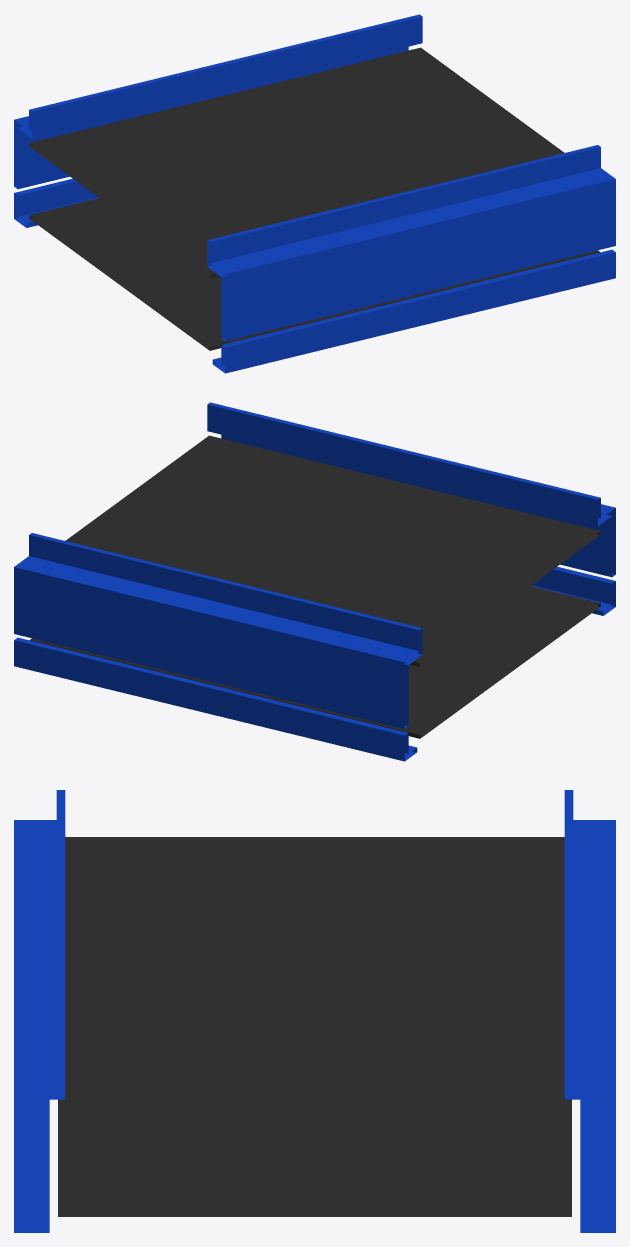
File: Assembly_Band_Mid.fbx
3 renders of one model, top to bottom at view 1: azimuth 30°, elevation 25°; view 2: azimuth 150°, elevation 25°; view 3: azimuth 270°, elevation 25°, orthographic. The views are drawn at different scales.
Visible parts, largest first — view 1: Cylinder.001; view 2: Cylinder.001; view 3: Cylinder.001.
Boxes of the visible parts, box(x1,y1,x2,y2) form: Cylinder.001: box(14, 14, 615, 373); Cylinder.001: box(14, 402, 615, 761); Cylinder.001: box(14, 790, 615, 1232).
Bounding box in the file's own units: 100 × 29.4 × 93.66.
